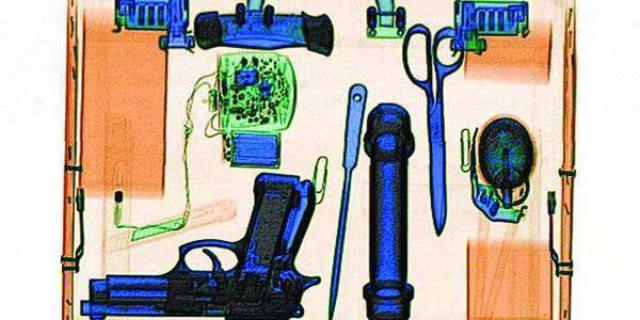Gun: (77, 168, 323, 318)
Knife: (399, 22, 466, 236)
